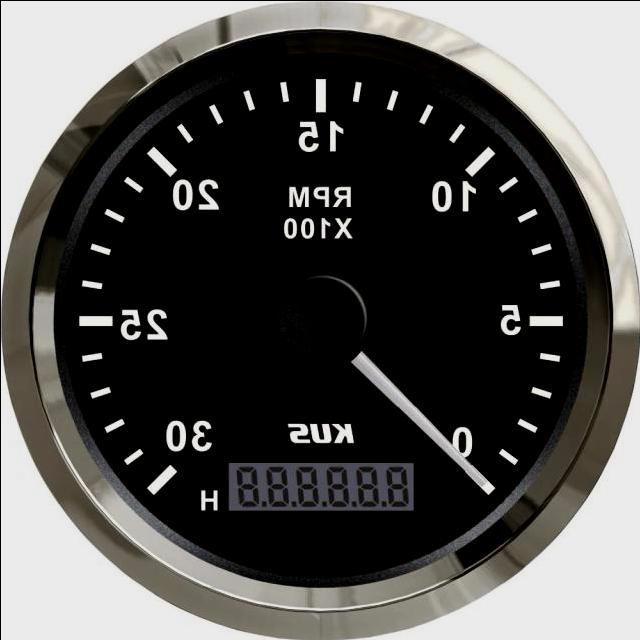Needle_Tip: (457, 458, 511, 518)
Needle_base: (252, 270, 380, 392)
max_value: (145, 405, 233, 467)
min_value: (445, 424, 478, 459)
